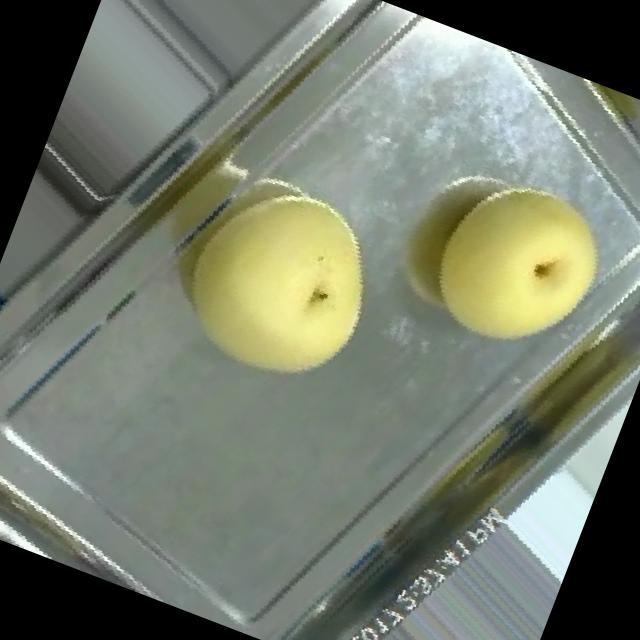Fruit: (117, 120, 435, 444), (385, 136, 640, 402)
